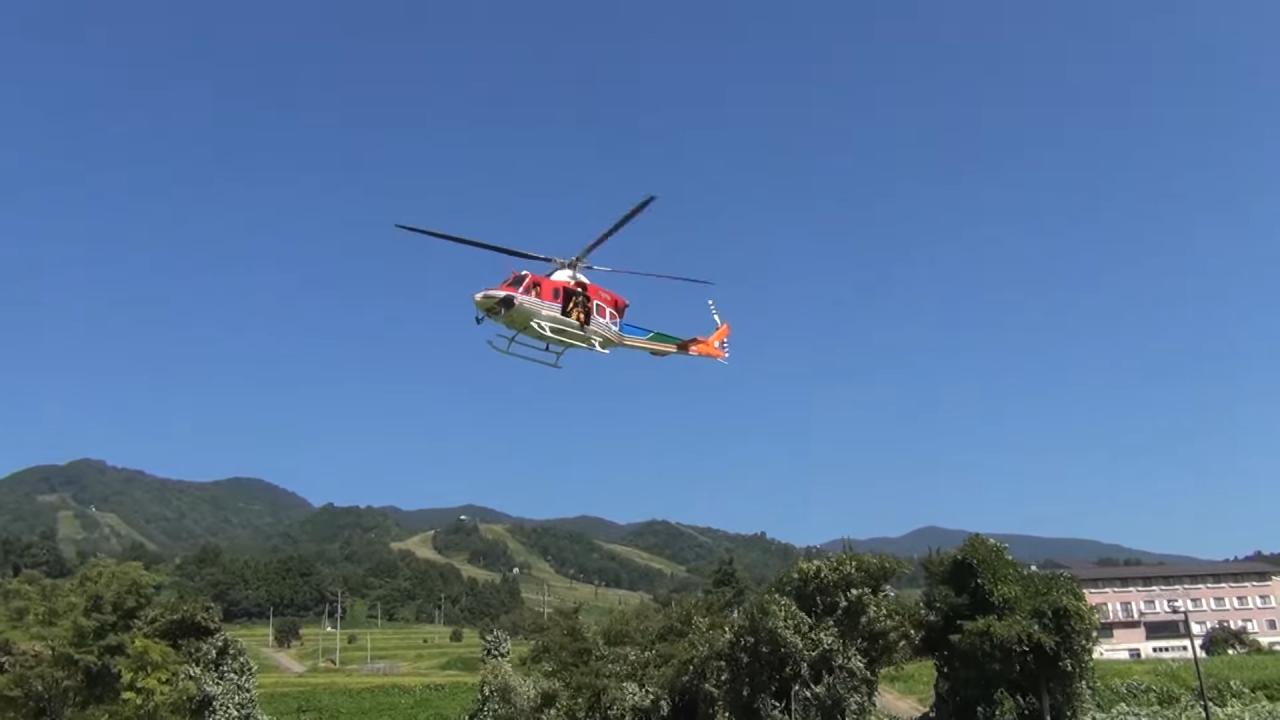Helicopter: (385, 181, 743, 384)
